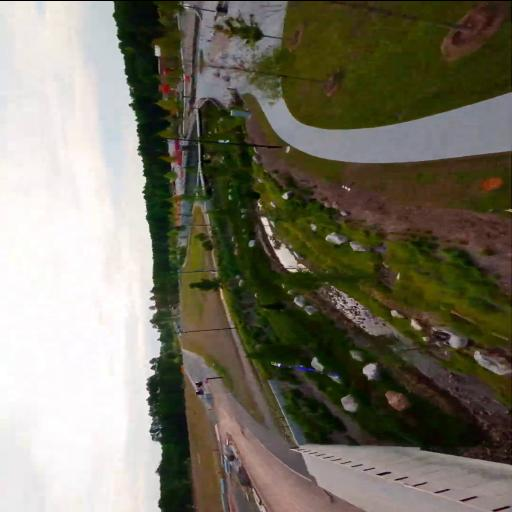uav: (282, 362, 344, 378)
